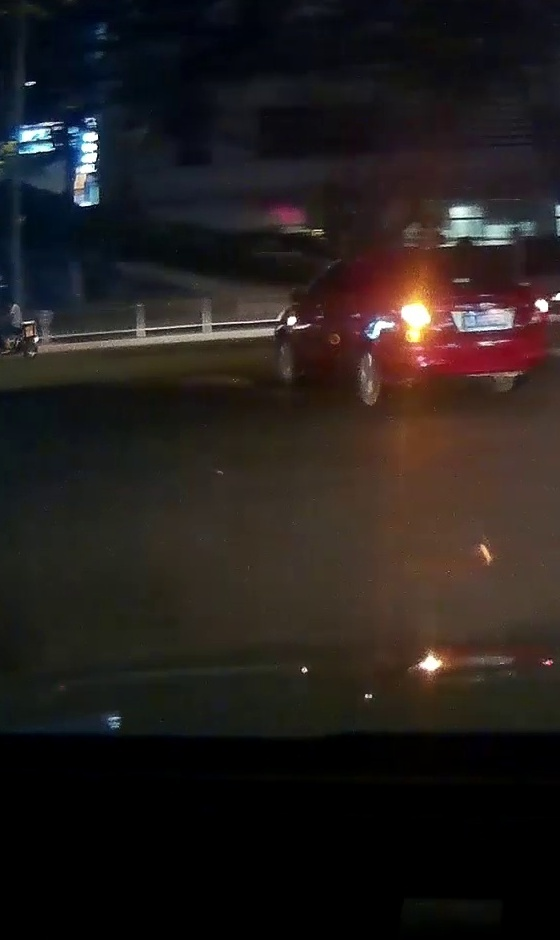L_light: (401, 301, 431, 329)
R_light: (526, 298, 549, 325)
T_light: (452, 277, 471, 283)
night-left: (384, 251, 549, 407)
